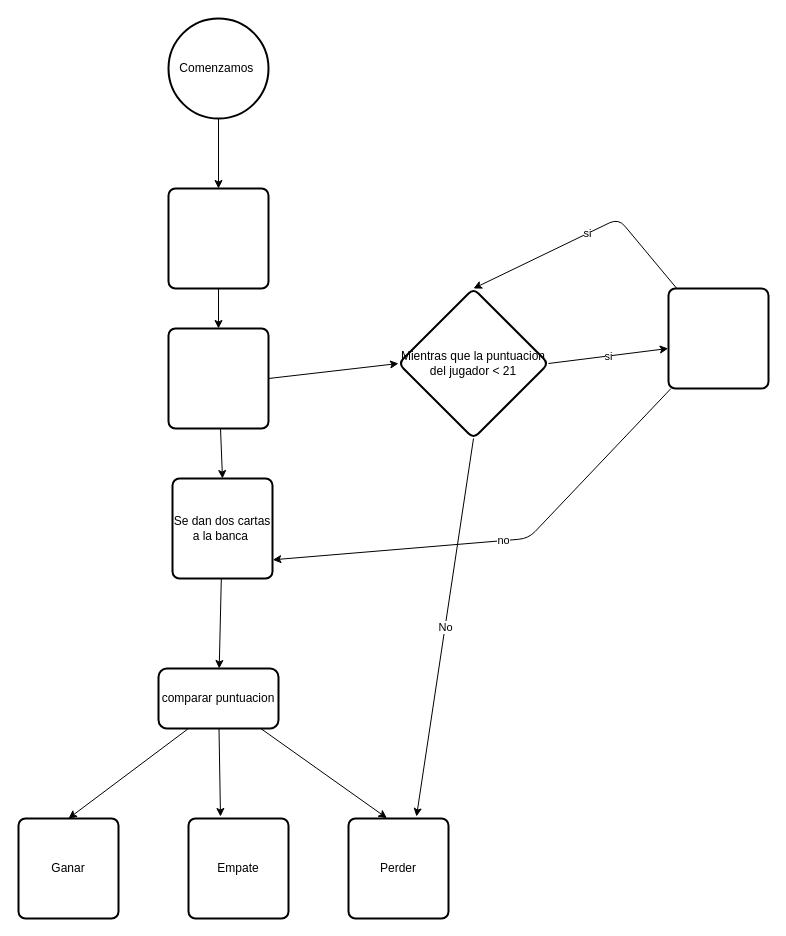
Image size: 786x936. Some labels were removed from this diagram. Each missing label, with the centre of its shape:
Pedir otra carta: the point at 718,338
Se dan dos cartsa al jugador: the point at 218,378
Se enseñan el valor de las cartas: the point at 218,238
